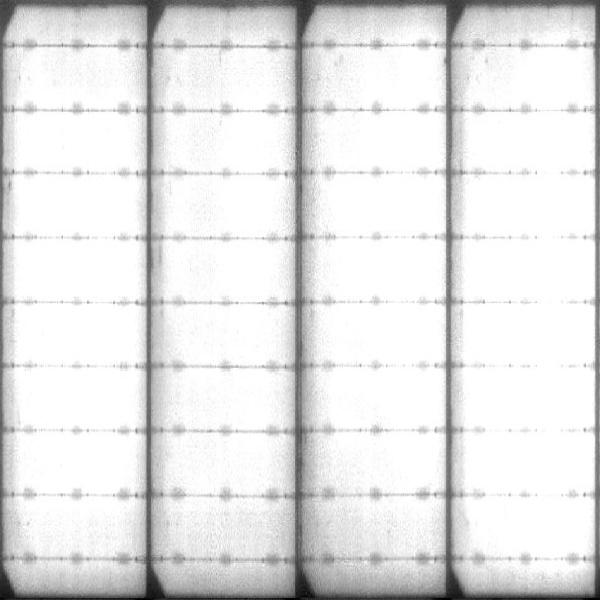hot_spot: (467, 242, 586, 299), (465, 307, 585, 363), (466, 373, 588, 427), (19, 242, 135, 297), (18, 374, 137, 427), (20, 179, 135, 233), (19, 308, 140, 359), (321, 372, 442, 423), (325, 309, 440, 361), (471, 180, 590, 230), (329, 439, 443, 491), (18, 120, 139, 168), (471, 438, 581, 487), (28, 437, 133, 488), (475, 504, 583, 553), (175, 307, 276, 359), (171, 249, 280, 297), (332, 249, 442, 296), (333, 184, 444, 230), (172, 436, 278, 483), (170, 186, 280, 231), (334, 118, 439, 165), (477, 120, 587, 163), (173, 122, 280, 166), (179, 376, 281, 419), (502, 57, 583, 98)
